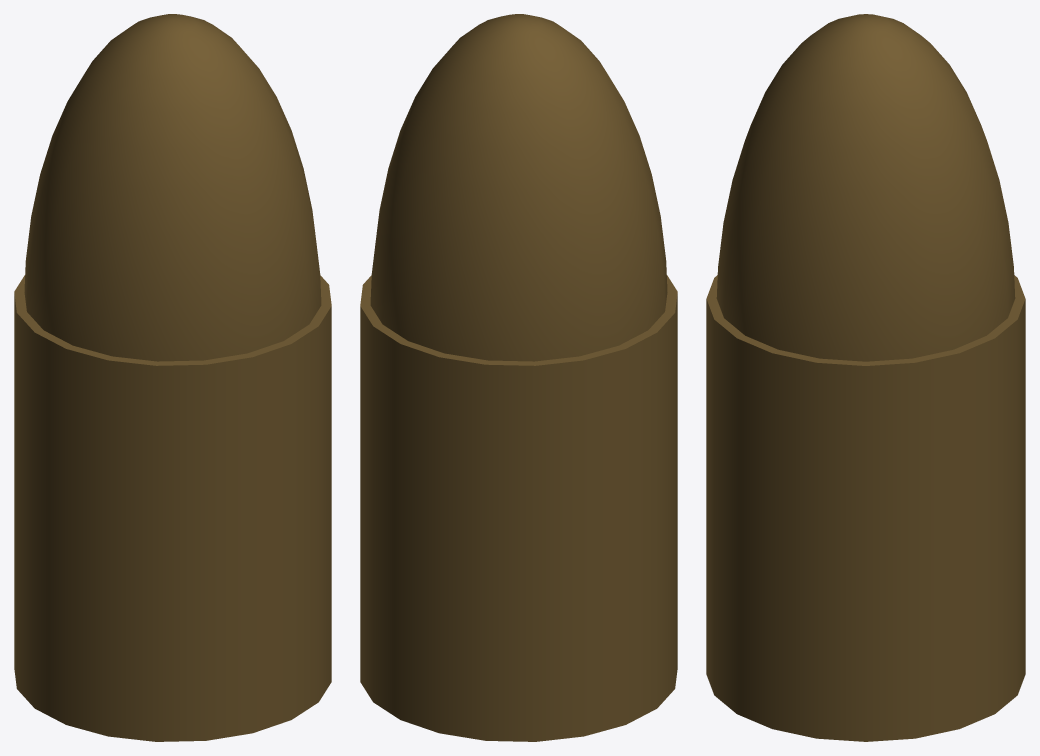
Rendered from Bullet.fbx.
3 renders of one model, left to right at view 1: azimuth 30°, elevation 25°; view 2: azimuth 150°, elevation 25°; view 3: azimuth 270°, elevation 25°, orthographic.
Visible parts, largest first — view 1: Bullet; view 2: Bullet; view 3: Bullet.
Part boxes in pixels (<box>): Bullet: <box>14,14,331,741</box>; Bullet: <box>360,14,677,741</box>; Bullet: <box>706,14,1025,741</box>.
Size of the model in its own units: 2 by 4.53 by 2.
